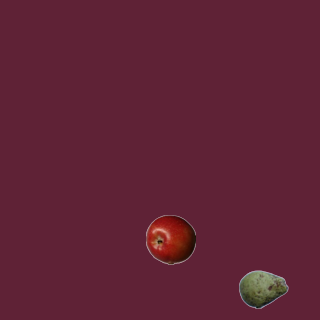Apple Braeburn: (145, 214, 195, 264)
Pear Stone: (238, 264, 288, 314)
